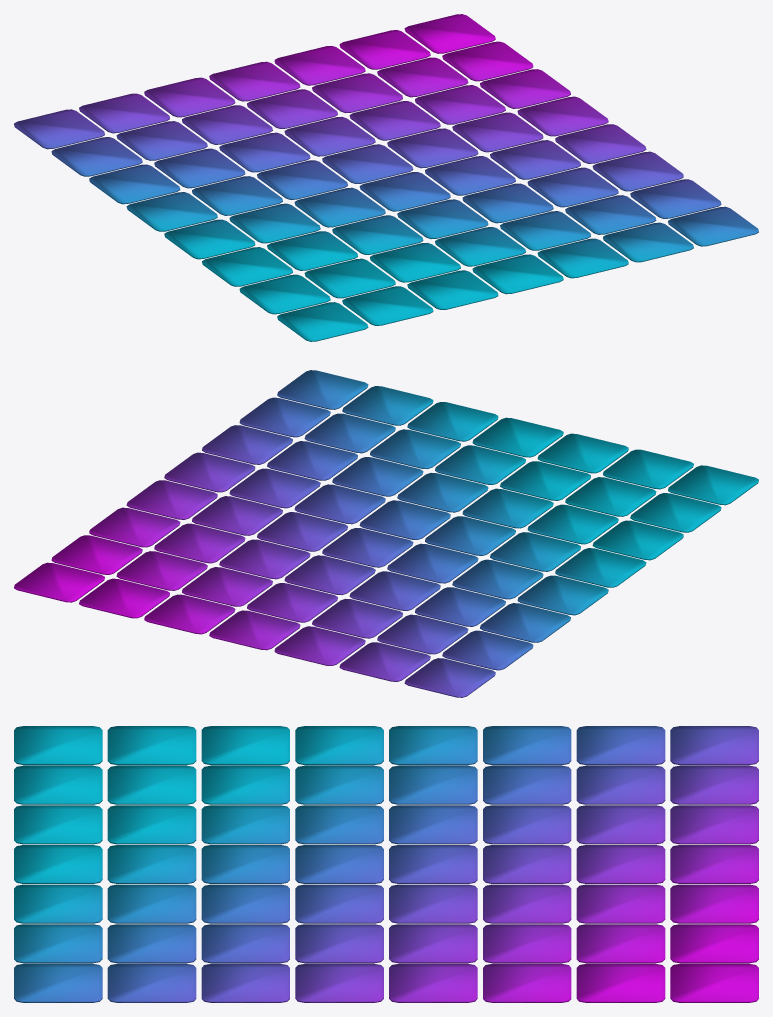
File: DanceFloor.fbx
The picture shows the model from 3 angles, top to bottom: view 1: azimuth 30°, elevation 25°; view 2: azimuth 150°, elevation 25°; view 3: azimuth 270°, elevation 25°; orthographic projection. The views are drawn at different scales.
Visible parts, largest first — view 1: Plane.024; view 2: Plane.024; view 3: Plane.024.
Boxes of the visible parts, x1,y1,x2,y2 form: Plane.024: (14,14,758,341); Plane.024: (14,370,758,697); Plane.024: (14,726,758,1002).
Size of the model in its own units: 694 by 2 by 794.
